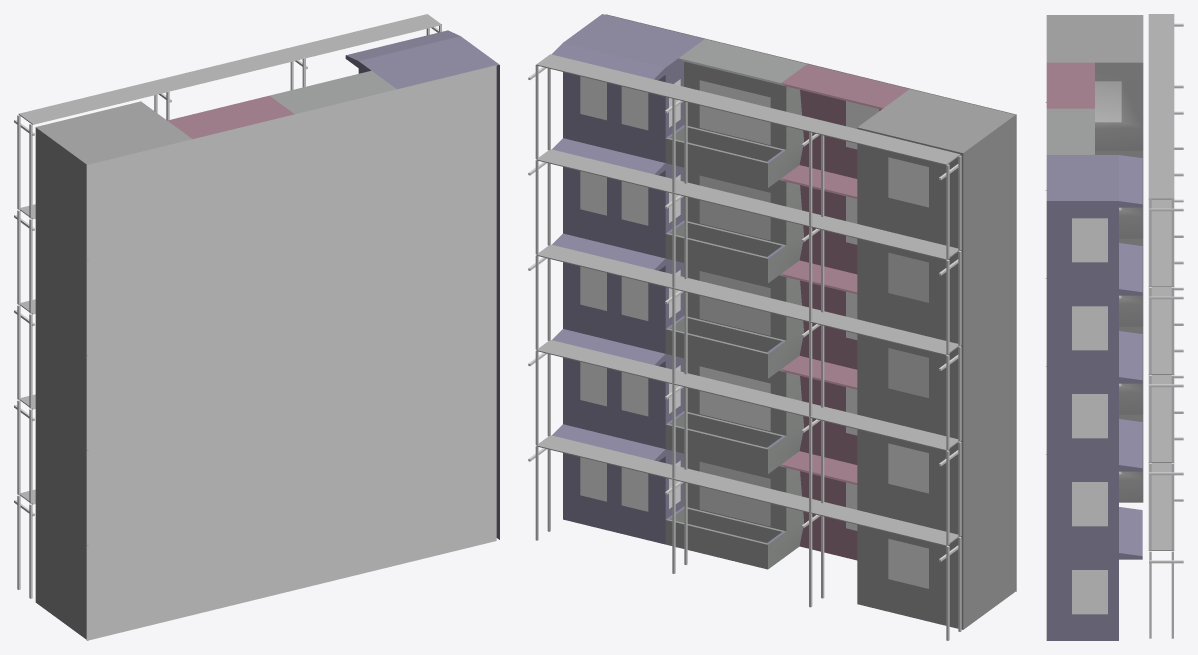
File: SymetricElement2.fbx
3 views of the same model, side by side, from view 1: azimuth 30°, elevation 25°; view 2: azimuth 150°, elevation 25°; view 3: azimuth 270°, elevation 25° (orthographic). The views are drawn at different scales.
Visible parts, largest first — view 1: Cube.002; view 2: Cube.002; view 3: Cube.002.
Part boxes in pixels (x1,y1,x2,y2): Cube.002: (14, 14, 499, 640); Cube.002: (528, 14, 1016, 640); Cube.002: (1045, 14, 1183, 640).
Bounding box in the file's own units: 1822 × 2004 × 570.
